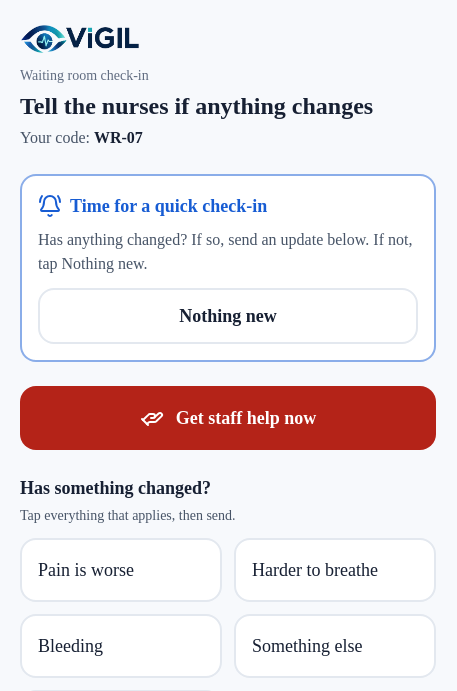
Scenario: CheckinView › reminders › counts an update as the answer
Click the button "Bleeding".
click(121, 646)  # box [20, 614, 222, 678]
(page scrolled)
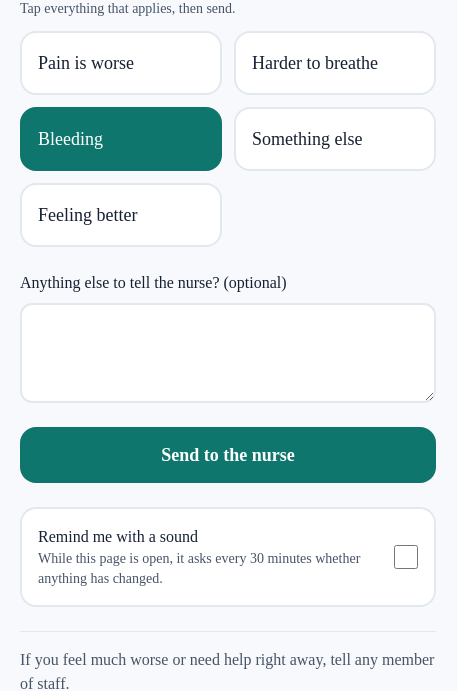
Click the button "Send to the nurse".
click(228, 455)  # box [20, 427, 436, 483]
(page scrolled)
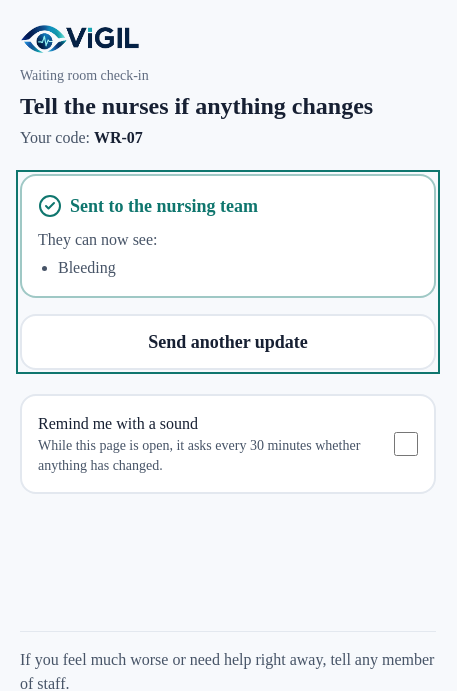
expect the text "Sent to the nursing team" is shown: met, box [38, 194, 258, 218]
